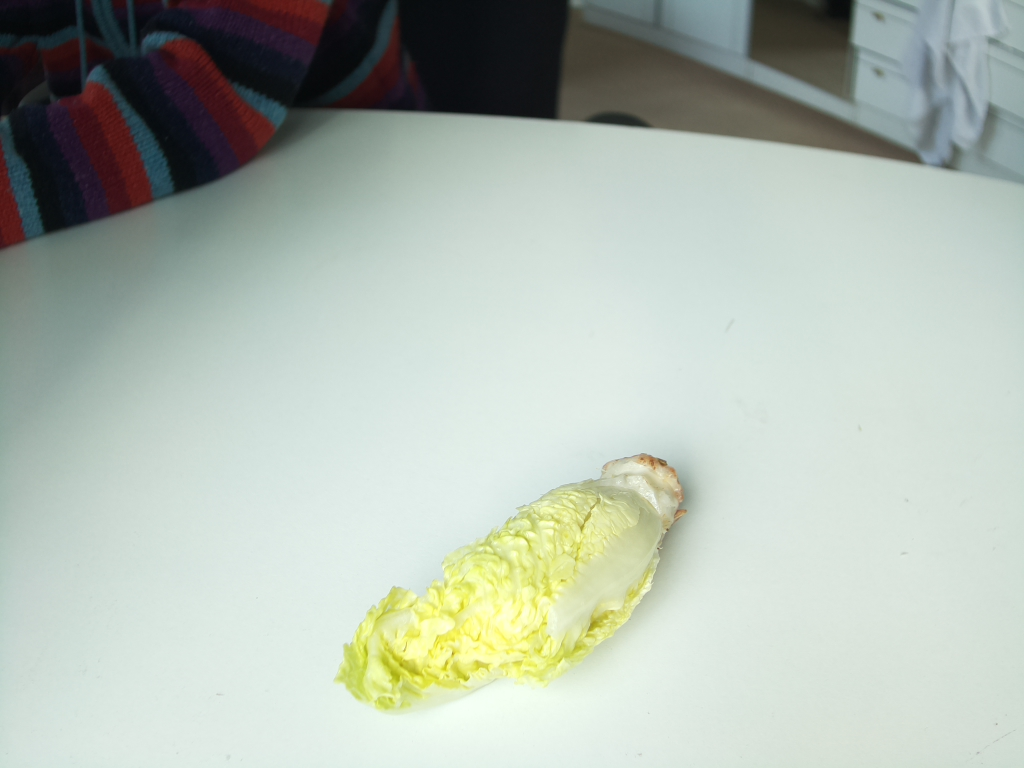salad: (345, 449, 689, 714)
